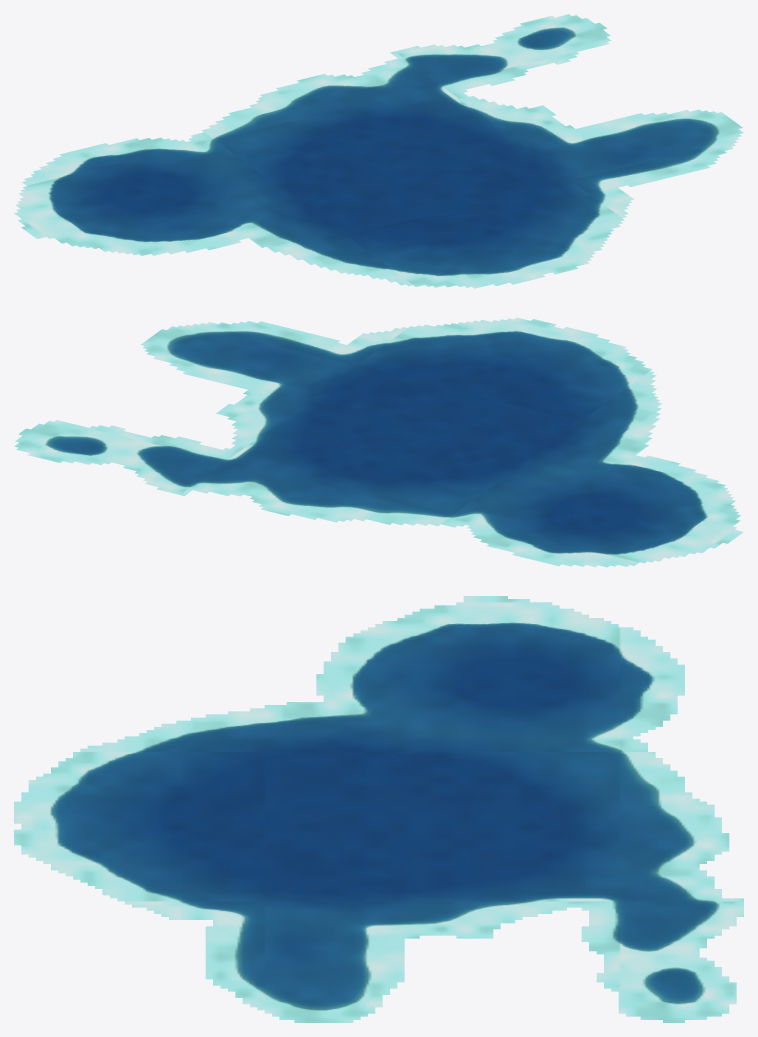
Rendered from SM_dw_river.glb.
The picture shows the model from 3 angles, top to bottom: view 1: azimuth 30°, elevation 25°; view 2: azimuth 150°, elevation 25°; view 3: azimuth 270°, elevation 25°; orthographic projection. The views are drawn at different scales.
Parts seen in each view (by area): view 1: SM_dw_river; view 2: SM_dw_river; view 3: SM_dw_river.
Part boxes in pixels (box(x1,y1,x2,y2)): SM_dw_river: box(14, 14, 743, 288); SM_dw_river: box(14, 317, 743, 567); SM_dw_river: box(14, 596, 743, 1022).
Size of the model in its own units: 137 by 0 by 99.
Materials: 1 (1 with a texture image).
